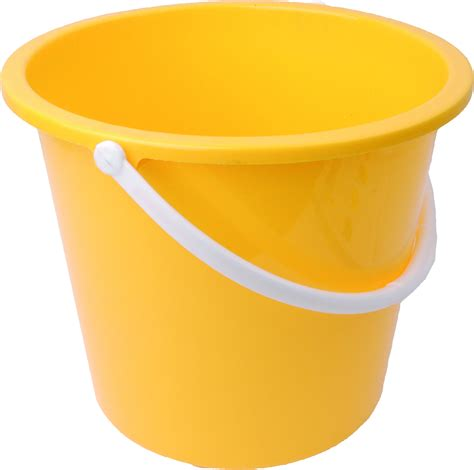???: (1, 1, 473, 470)
